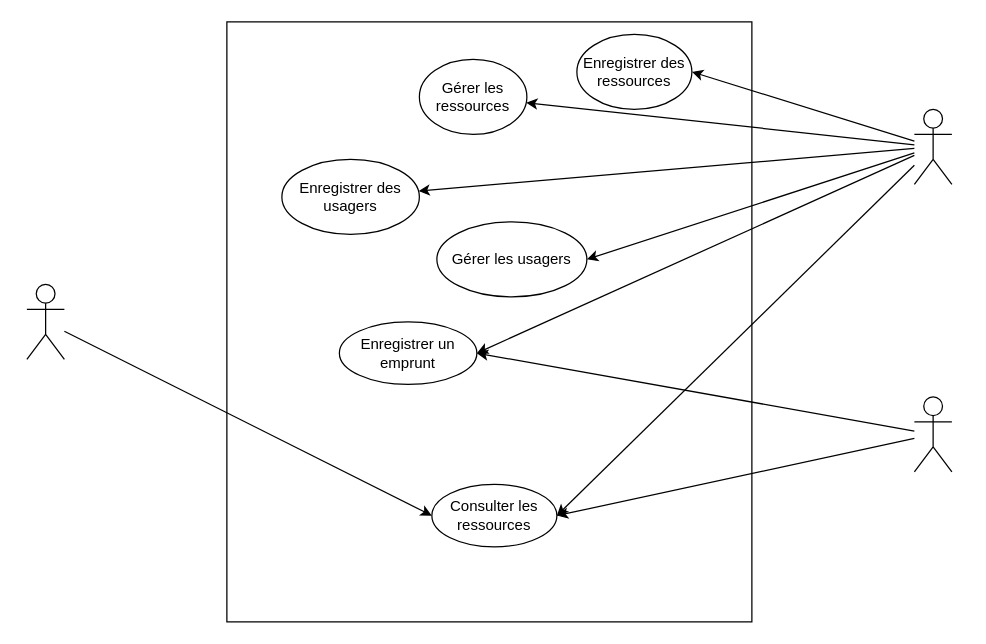
This 986x644 diagram has some shape labels left out. The shapes that lost their labels are listed below. From the top down, each one's centre as x and y in pixels, then its label:
the point at 932,146: Employé
the point at 45,321: Usager
the point at 932,434: Bénévole
